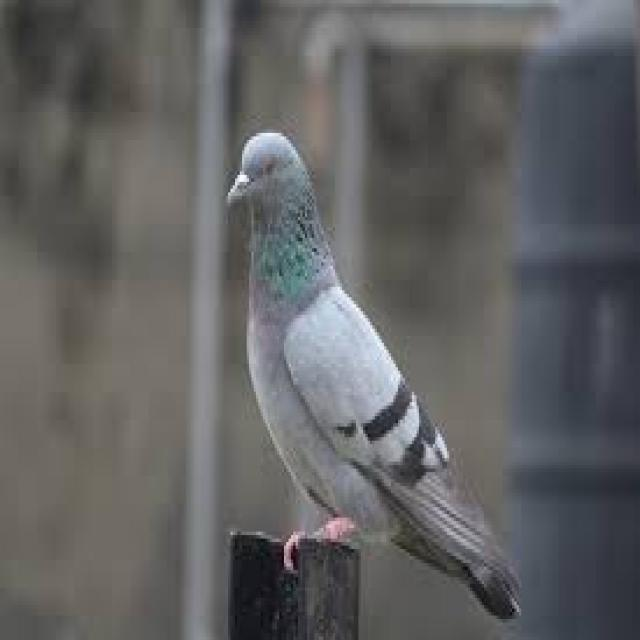bird: (224, 125, 532, 626)
